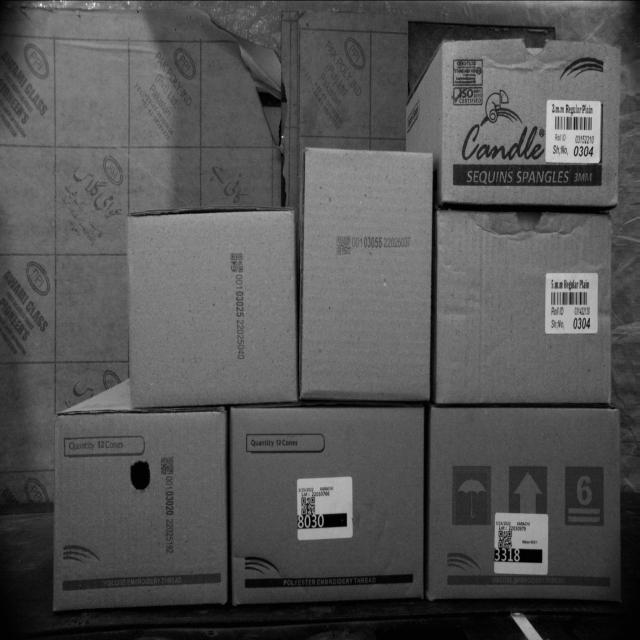box: (231, 402, 425, 598), (427, 406, 622, 600), (433, 207, 611, 401), (56, 413, 228, 609), (122, 208, 296, 400), (304, 143, 432, 403), (443, 34, 619, 205)
